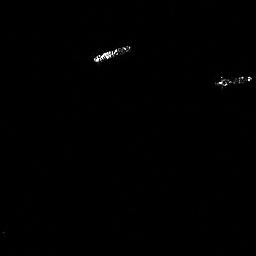ship: (88, 41, 134, 65), (209, 72, 256, 89)
